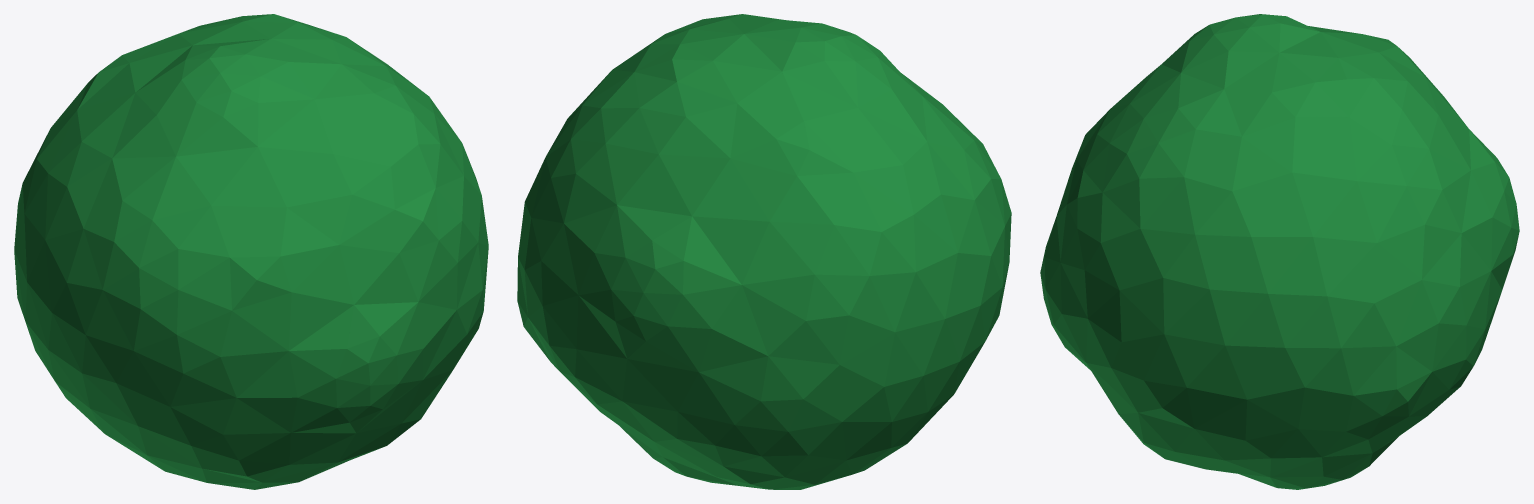
File: ANEURYSM_MASK_002.glb
3 views of the same model, side by side, from view 1: azimuth 30°, elevation 25°; view 2: azimuth 150°, elevation 25°; view 3: azimuth 270°, elevation 25° (orthographic). The views are drawn at different scales.
Parts seen in each view (by area): view 1: node_id4; view 2: node_id4; view 3: node_id4.
Part boxes in pixels (x1,y1,x2,y2): node_id4: [14, 14, 488, 489]; node_id4: [517, 14, 1011, 489]; node_id4: [1040, 14, 1519, 489].
Size of the model in its own units: 0.5019 by 0.4995 by 0.5071.
Materials: 1 (1 with a texture image).
